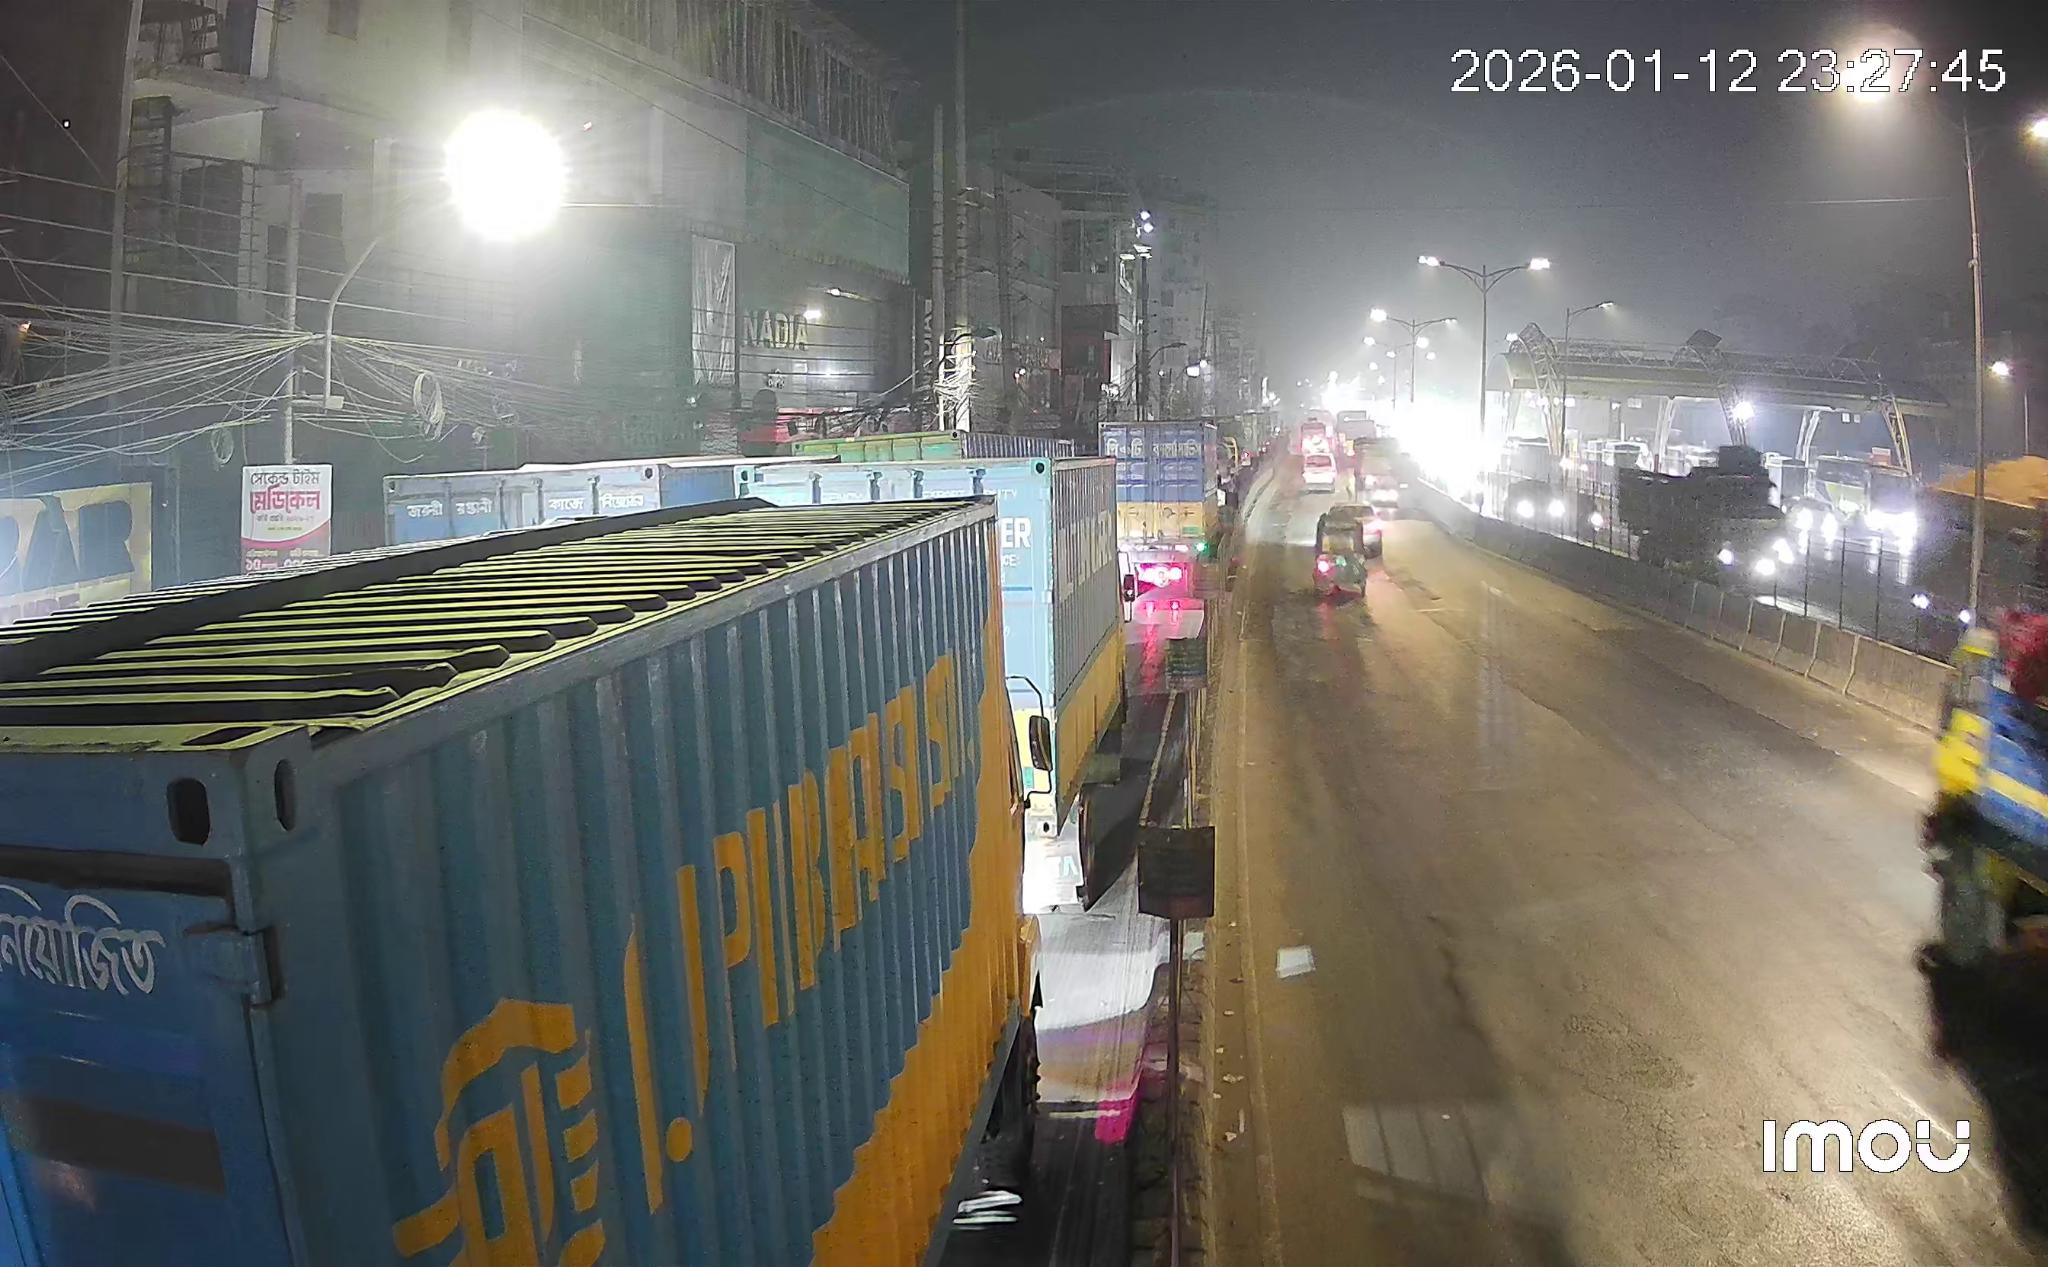CNG-Tempo: (1312, 506, 1378, 598)
Truck: (0, 499, 1049, 1267), (742, 456, 1125, 913), (1922, 503, 2047, 967), (1618, 445, 1795, 582), (1100, 418, 1223, 560)
